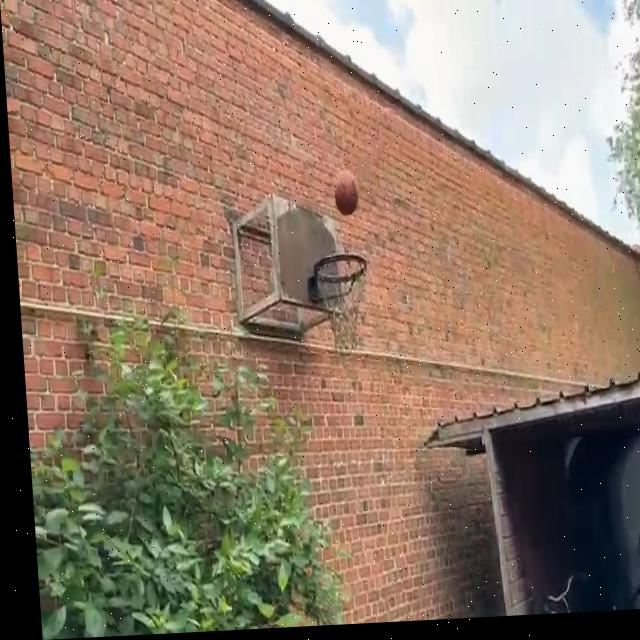Basketball: (333, 171, 359, 214)
